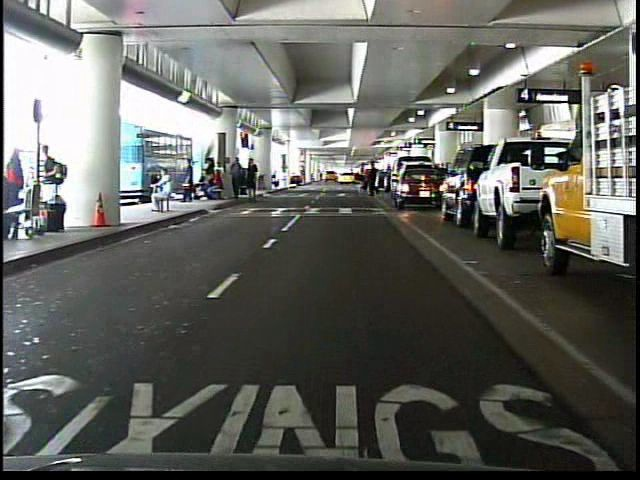person: (145, 168, 176, 216), (180, 155, 197, 206), (365, 158, 384, 202), (350, 160, 369, 197)
